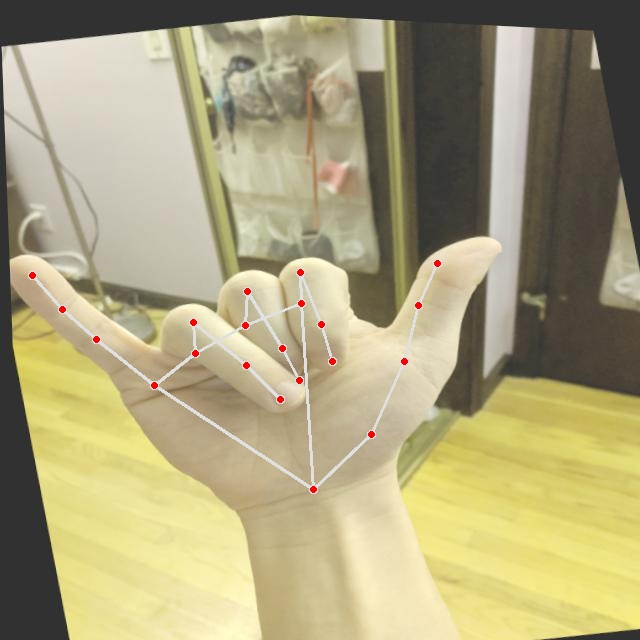Y: (5, 173, 552, 546)
